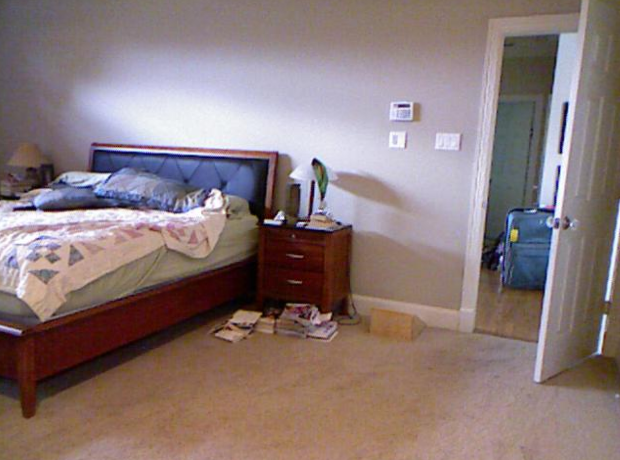cabinet: (259, 222, 354, 311)
cabinetDoor: (269, 272, 319, 297), (269, 243, 319, 268)
door: (547, 11, 616, 379)
openedDoor: (490, 15, 618, 354)
